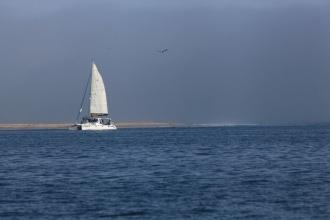fanchuan: (65, 61, 129, 132)
